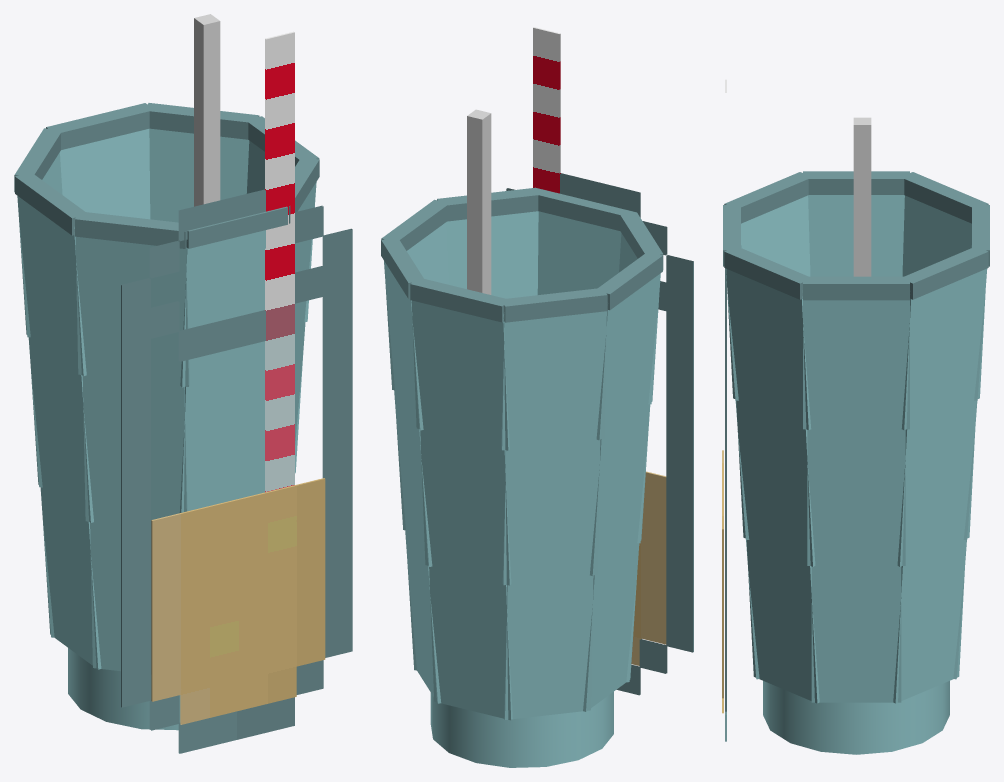
The model's file is CMU3DDrinkOrangeJuice.glb.
3 views of the same model, side by side, from view 1: azimuth 30°, elevation 25°; view 2: azimuth 150°, elevation 25°; view 3: azimuth 270°, elevation 25° (orthographic). The views are drawn at different scales.
Visible parts, largest first — view 1: base original source artwork, fill original source artwork, hollow wall tier 2 facet 7, hollow wall tier 3 facet 6, hollow wall tier 2 facet 6, hollow wall tier 3 facet 7, hollow wall tier 3 facet 5, hollow wall tier 2 facet 5, hollow wall tier 1 facet 5, hollow wall tier 3 facet 3, hollow wall tier 3 facet 2, striped straw physical core (+14 smaller); view 2: base original source artwork, hollow wall tier 3 facet 4, hollow wall tier 2 facet 4, hollow wall tier 1 facet 4, hollow wall tier 3 facet 3, hollow wall tier 2 facet 3, hollow wall tier 1 facet 3, heavy glass foot, hollow wall tier 3 facet 5, hollow wall tier 2 facet 5, hollow wall tier 1 facet 5, hollow wall tier 3 facet 7 (+17 smaller); view 3: hollow wall tier 3 facet 1, hollow wall tier 2 facet 1, hollow wall tier 1 facet 1, hollow wall tier 3 facet 8, hollow wall tier 3 facet 2, hollow wall tier 2 facet 8, hollow wall tier 2 facet 2, heavy glass foot, hollow wall tier 1 facet 2, hollow wall tier 1 facet 8, hollow wall tier 3 facet 5, hollow wall tier 3 facet 4 (+12 smaller).
Boxes of the visible parts, x1,y1,x2,y2 form: base original source artwork: (121, 31, 352, 753); fill original source artwork: (151, 478, 325, 724); hollow wall tier 2 facet 7: (179, 365, 264, 512); hollow wall tier 3 facet 6: (75, 236, 189, 386); hollow wall tier 2 facet 6: (82, 374, 187, 528); hollow wall tier 3 facet 7: (180, 230, 265, 387); hollow wall tier 3 facet 5: (17, 196, 86, 376); hollow wall tier 2 facet 5: (28, 337, 93, 522); hollow wall tier 1 facet 5: (40, 487, 101, 669); hollow wall tier 3 facet 3: (60, 129, 150, 219); hollow wall tier 3 facet 2: (149, 128, 249, 222); striped straw physical core: (194, 14, 220, 206); base original source artwork: (506, 27, 693, 695); hollow wall tier 3 facet 4: (501, 311, 606, 450); hollow wall tier 2 facet 4: (502, 438, 600, 585); hollow wall tier 1 facet 4: (504, 574, 593, 719); hollow wall tier 3 facet 3: (411, 300, 509, 450); hollow wall tier 2 facet 3: (420, 428, 511, 585); hollow wall tier 1 facet 3: (429, 565, 512, 720); heavy glass foot: (430, 692, 613, 767); hollow wall tier 3 facet 5: (596, 273, 660, 440); hollow wall tier 2 facet 5: (590, 403, 650, 575); hollow wall tier 1 facet 5: (583, 542, 639, 711); hollow wall tier 3 facet 7: (537, 211, 621, 294); hollow wall tier 3 facet 1: (803, 300, 909, 429); hollow wall tier 2 facet 1: (807, 428, 905, 565); hollow wall tier 1 facet 1: (811, 566, 901, 702); hollow wall tier 3 facet 8: (726, 269, 811, 430); hollow wall tier 3 facet 2: (901, 269, 986, 430); hollow wall tier 2 facet 8: (736, 399, 815, 566); hollow wall tier 2 facet 2: (897, 399, 976, 566); heavy glass foot: (763, 681, 949, 754); hollow wall tier 1 facet 2: (893, 538, 966, 703); hollow wall tier 1 facet 8: (746, 538, 819, 703); hollow wall tier 3 facet 5: (808, 195, 904, 276); hollow wall tier 3 facet 4: (902, 195, 971, 276).
Size of what is drawn, in the model's own units: 0.268 by 0.7188 by 0.269.
Materials: 6 (2 with a texture image).
